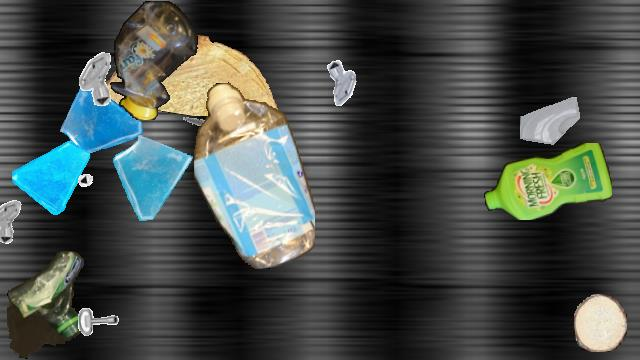glass: (107, 133, 199, 225), (59, 76, 147, 164), (12, 137, 90, 215), (520, 96, 582, 158)
metal: (65, 50, 123, 108), (72, 303, 128, 359), (320, 57, 368, 105), (178, 104, 222, 148), (75, 156, 113, 194), (0, 196, 27, 244)
plastic: (194, 81, 314, 269), (109, 1, 199, 119), (484, 143, 612, 219), (7, 249, 85, 359)
wood: (103, 35, 289, 115), (574, 294, 626, 352)
